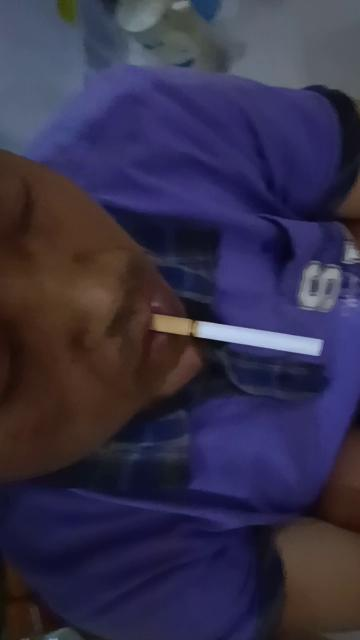Cigarette: (147, 316, 327, 356)
